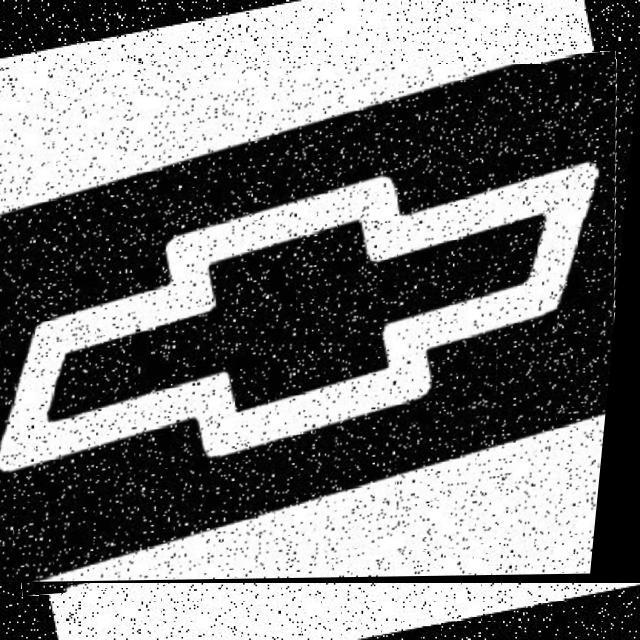Chevrolet: (0, 64, 640, 583)
